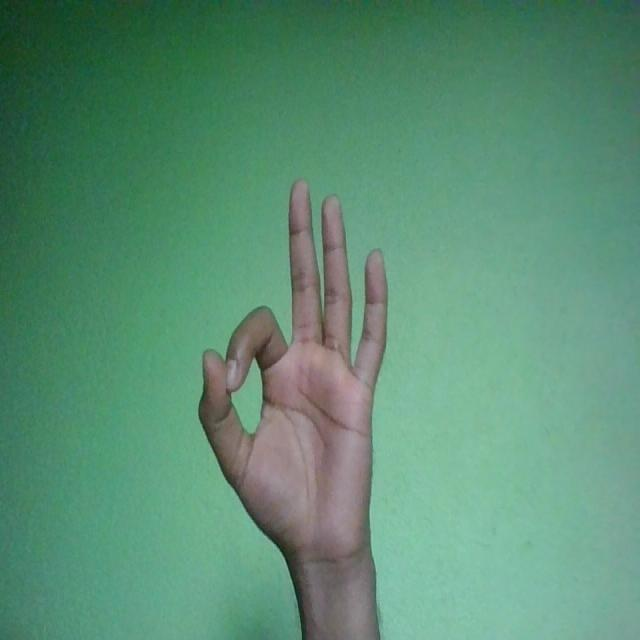Rock On: (200, 177, 388, 574)
